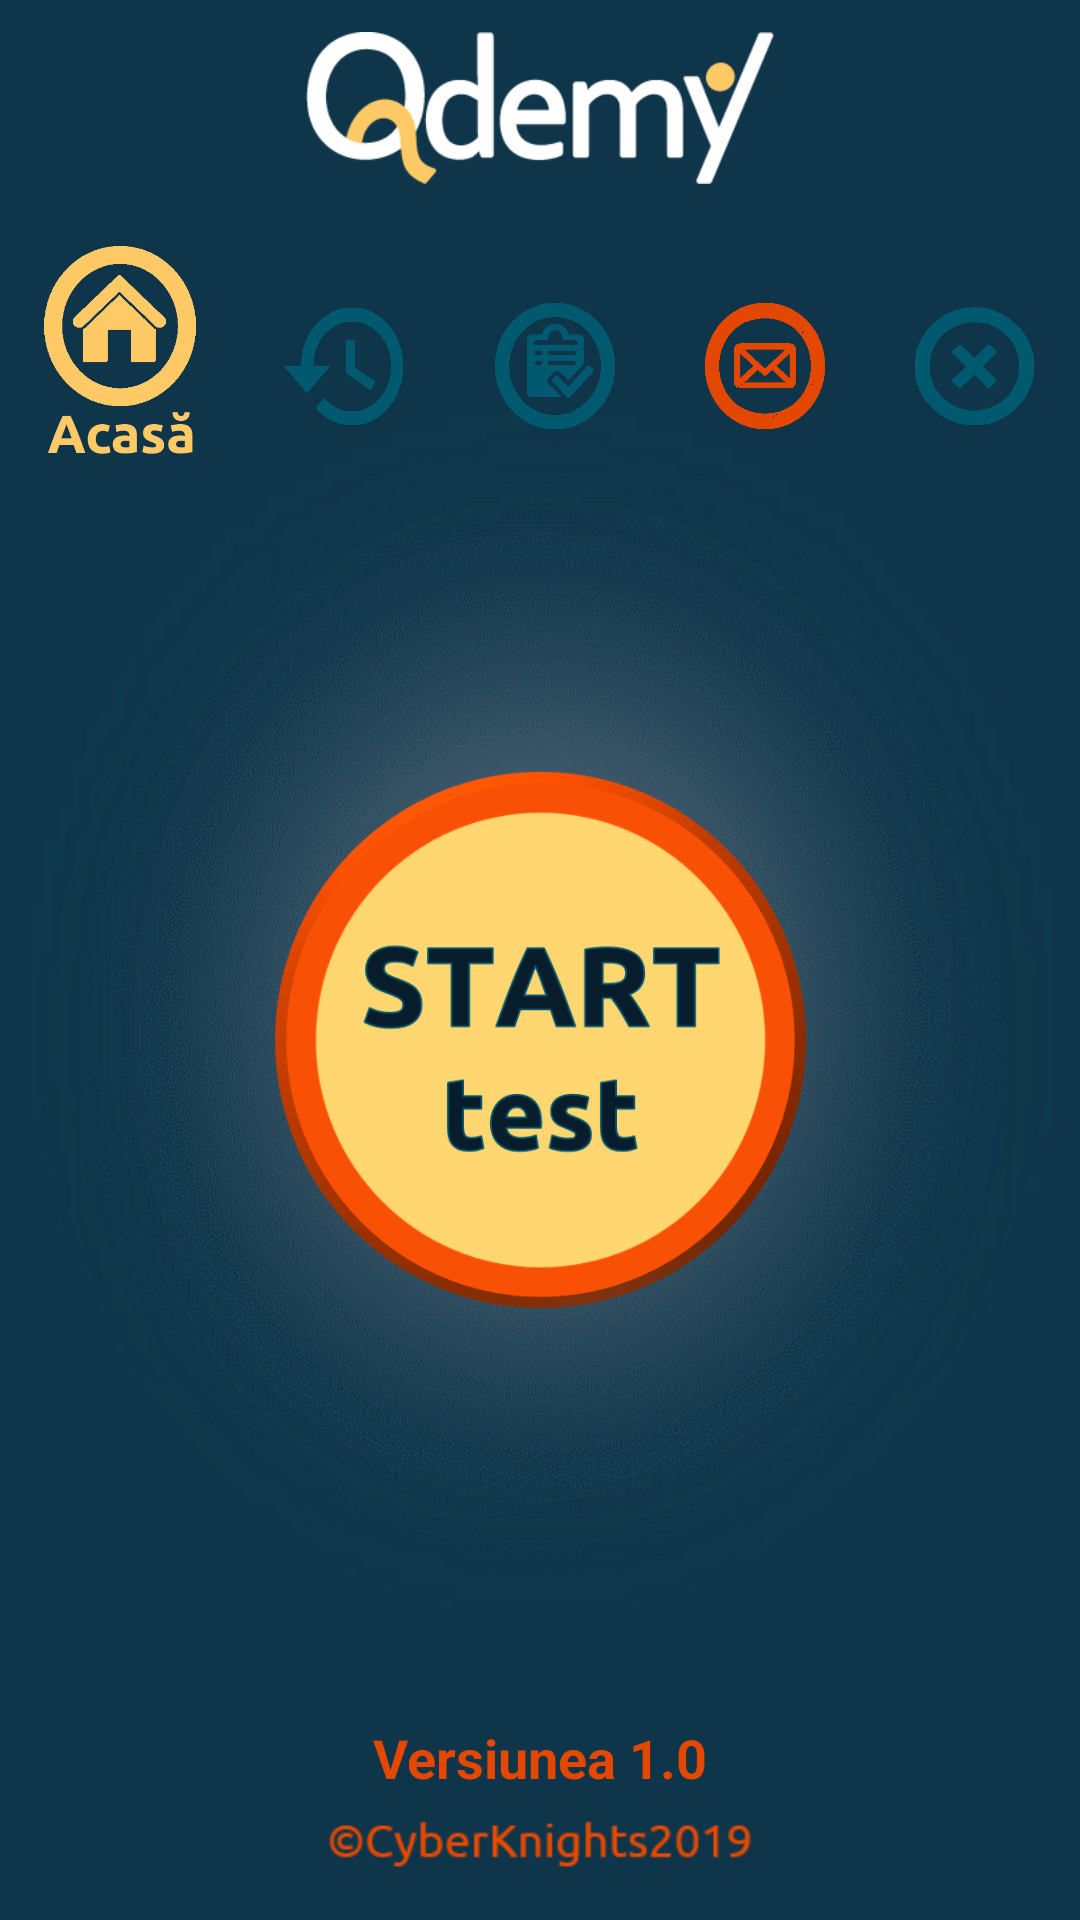

Where icons sit on this 1080*1920 app screen, as rect(x1, y1, x2, y2):
deconectare: rect(915, 307, 1034, 425)
istoricx: rect(285, 308, 403, 425)
mail: rect(705, 303, 825, 429)
testex: rect(495, 303, 615, 429)
